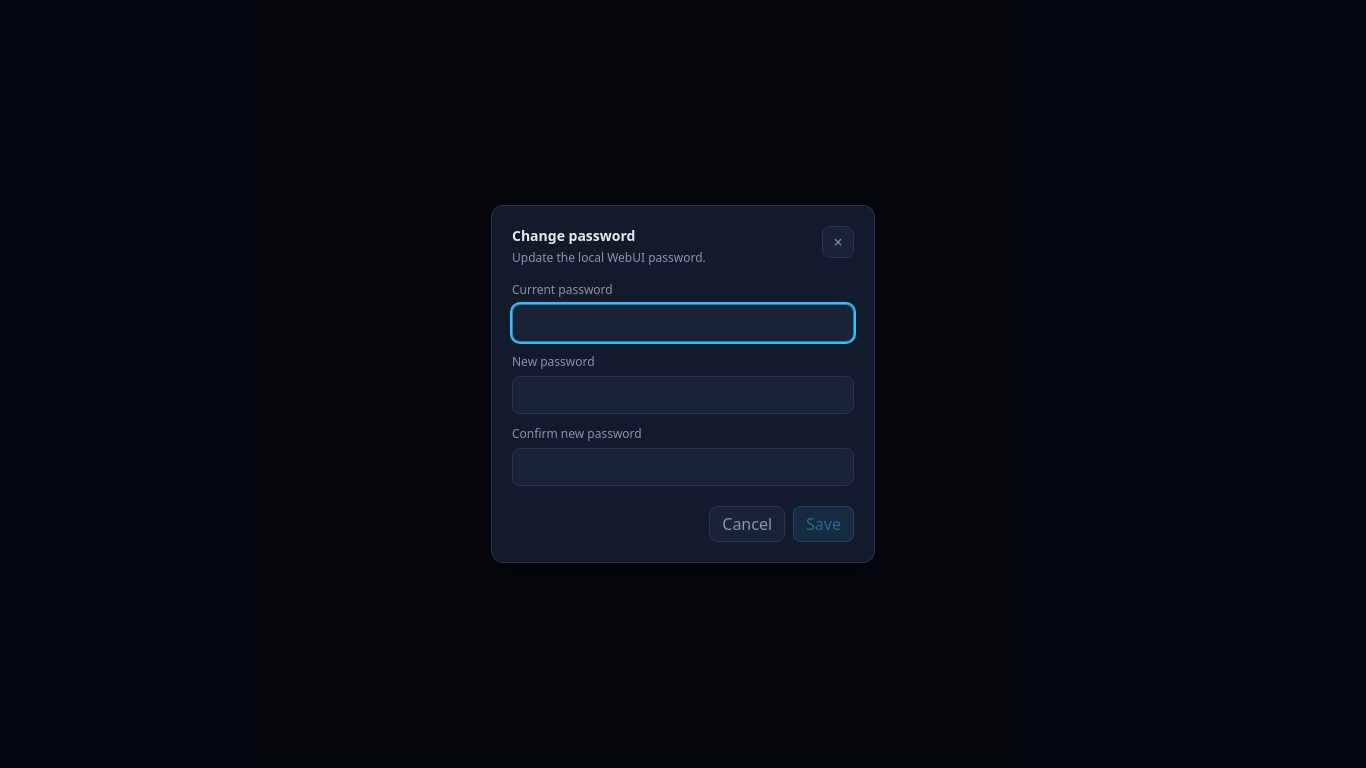
ChangePasswordModal › form validation › enables Save button when all fields are valid
Type "oldpass" into the password field labelled "Current password" at (683, 323), box [512,304,854,342]
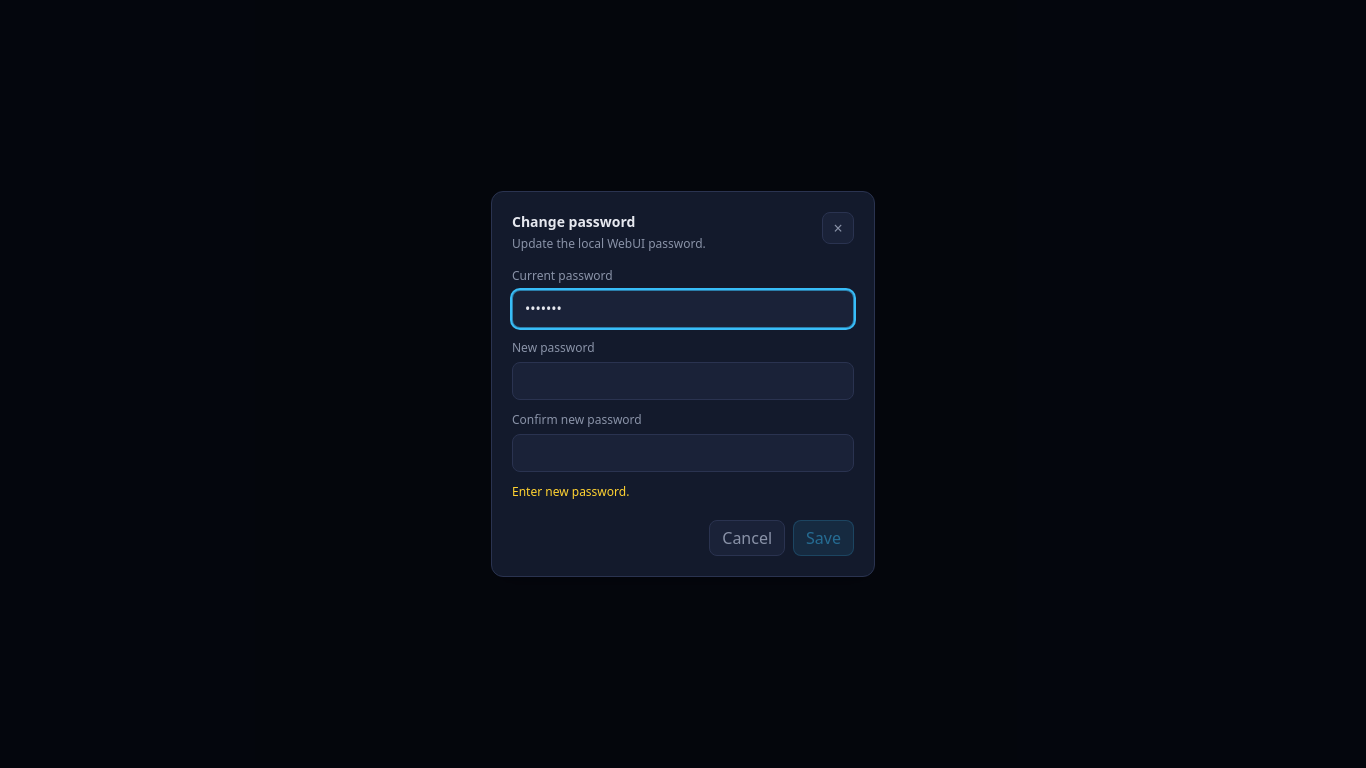
# Use exact "New password" label match (not "Confirm new password")
Type "newpass123" into the password field labelled "New password" at (683, 381), box [512,362,854,400]
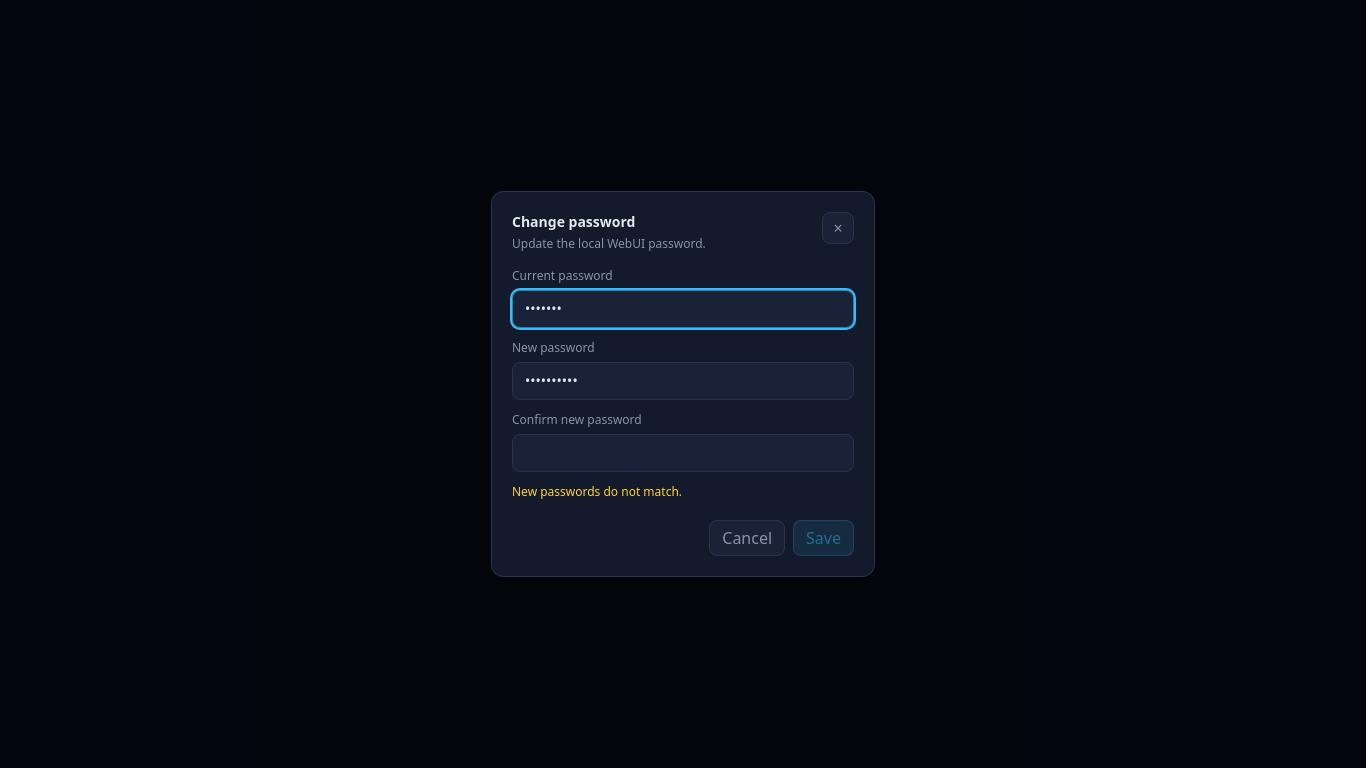
Type "newpass123" into the password field labelled "Confirm new password" at (683, 453), box [512,434,854,472]
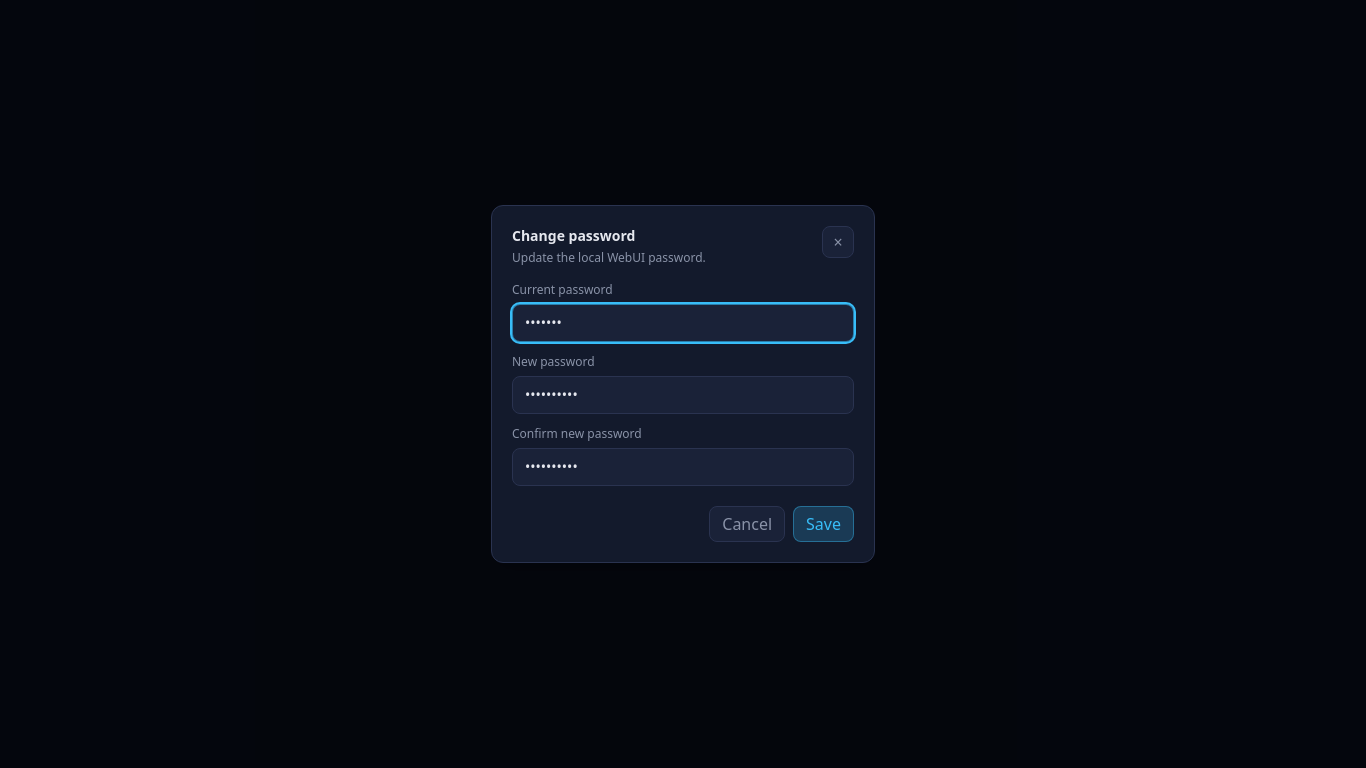
Check: the button "Save" is enabled, box [793,506,854,542]
